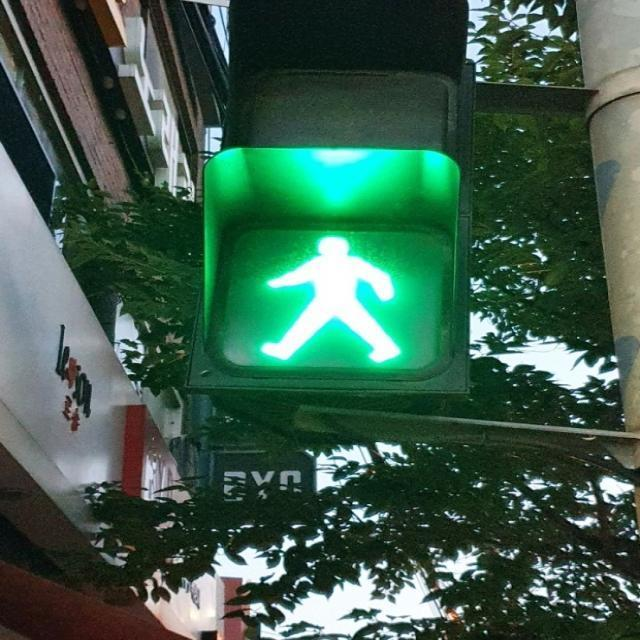green_light: (224, 218, 434, 364)
